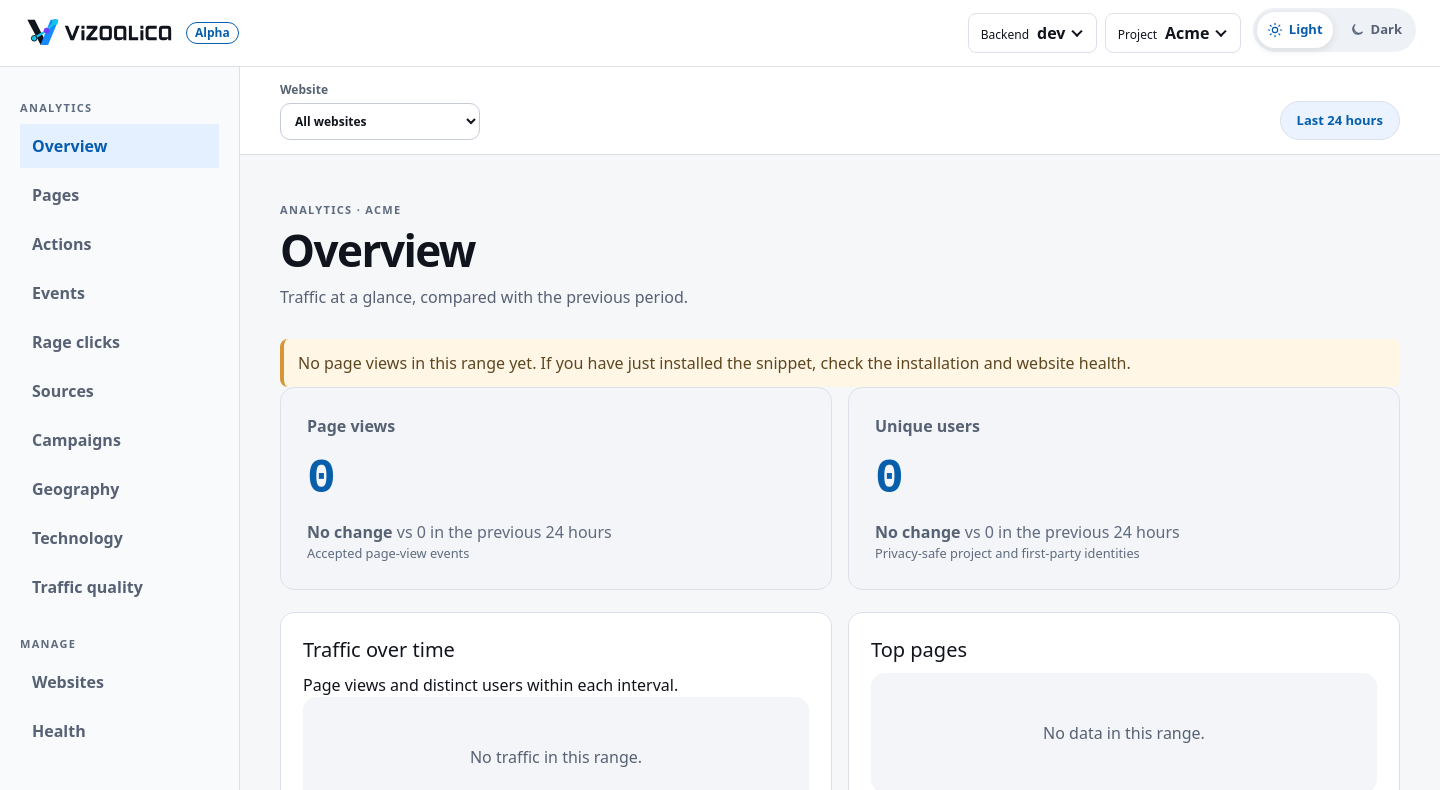
Test case: App with environments › says so, and picks the first project, when the project does not exist in the other environment
This screenshot has width=1440, height=790.
Step 1. Click the button "Project Acme" → coordinates (1173, 33), box [1105, 13, 1241, 53]
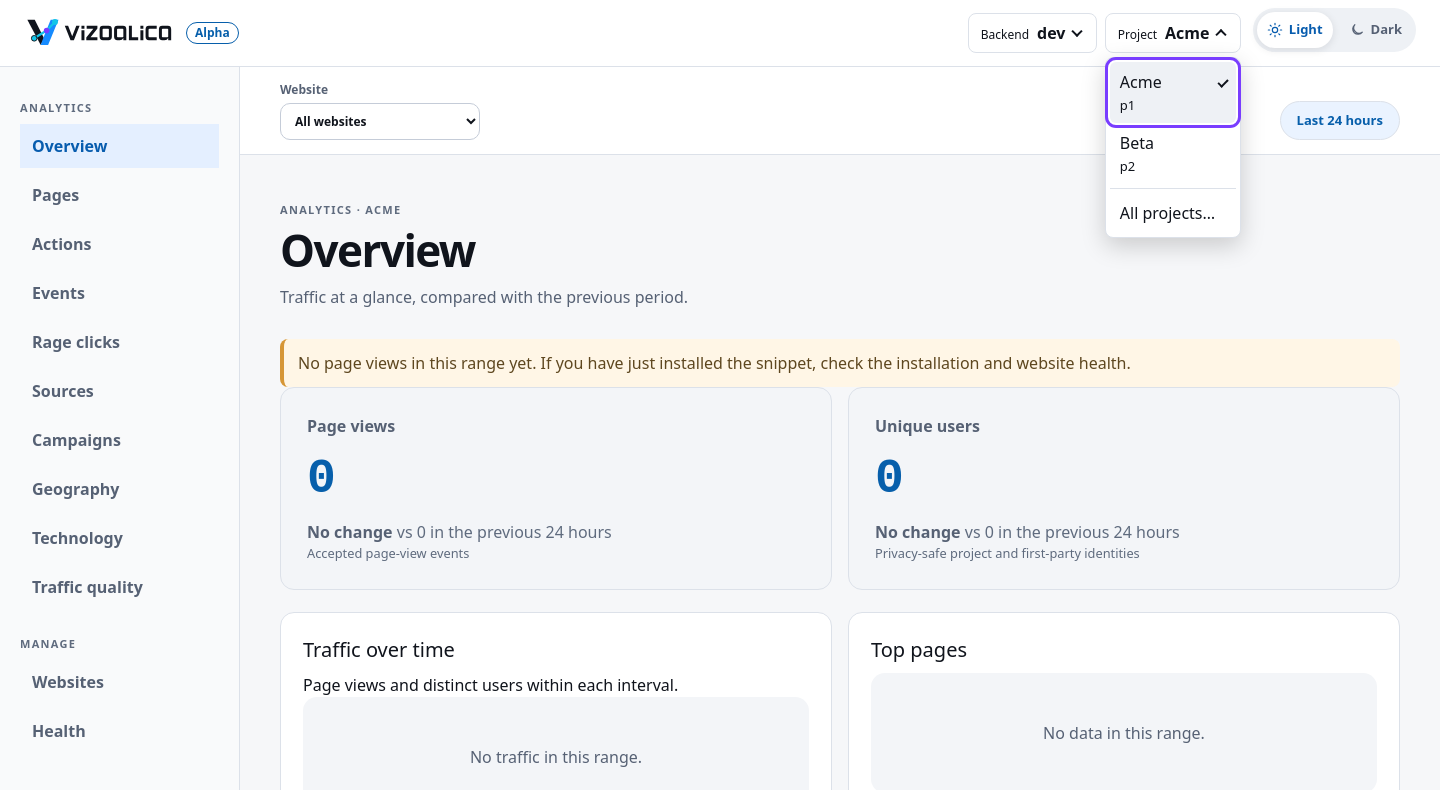
Step 2. Click the menu item "Beta p2" → coordinates (1173, 154), box [1110, 123, 1236, 184]
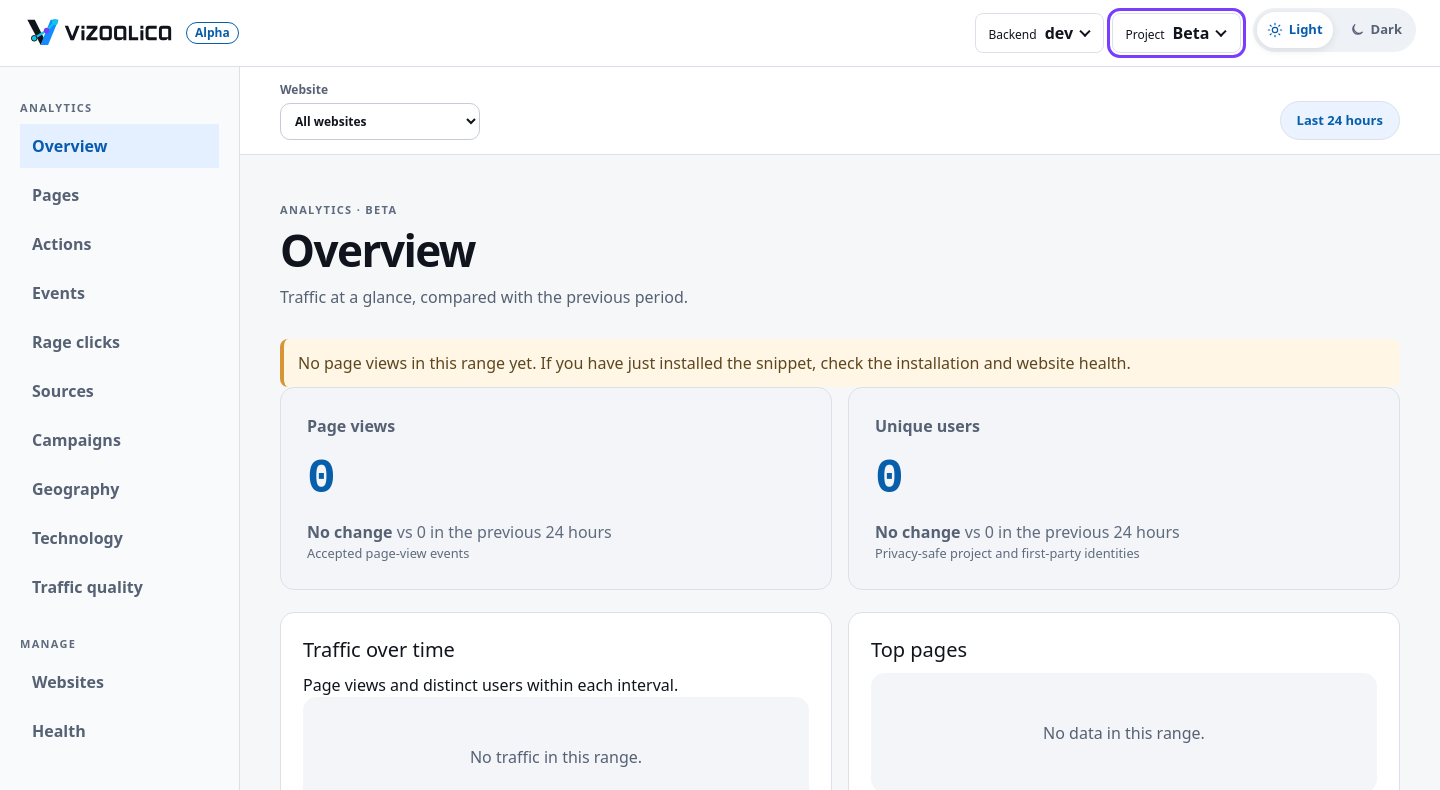
Step 3. Click the button "Backend dev" → coordinates (1040, 33), box [975, 13, 1104, 53]
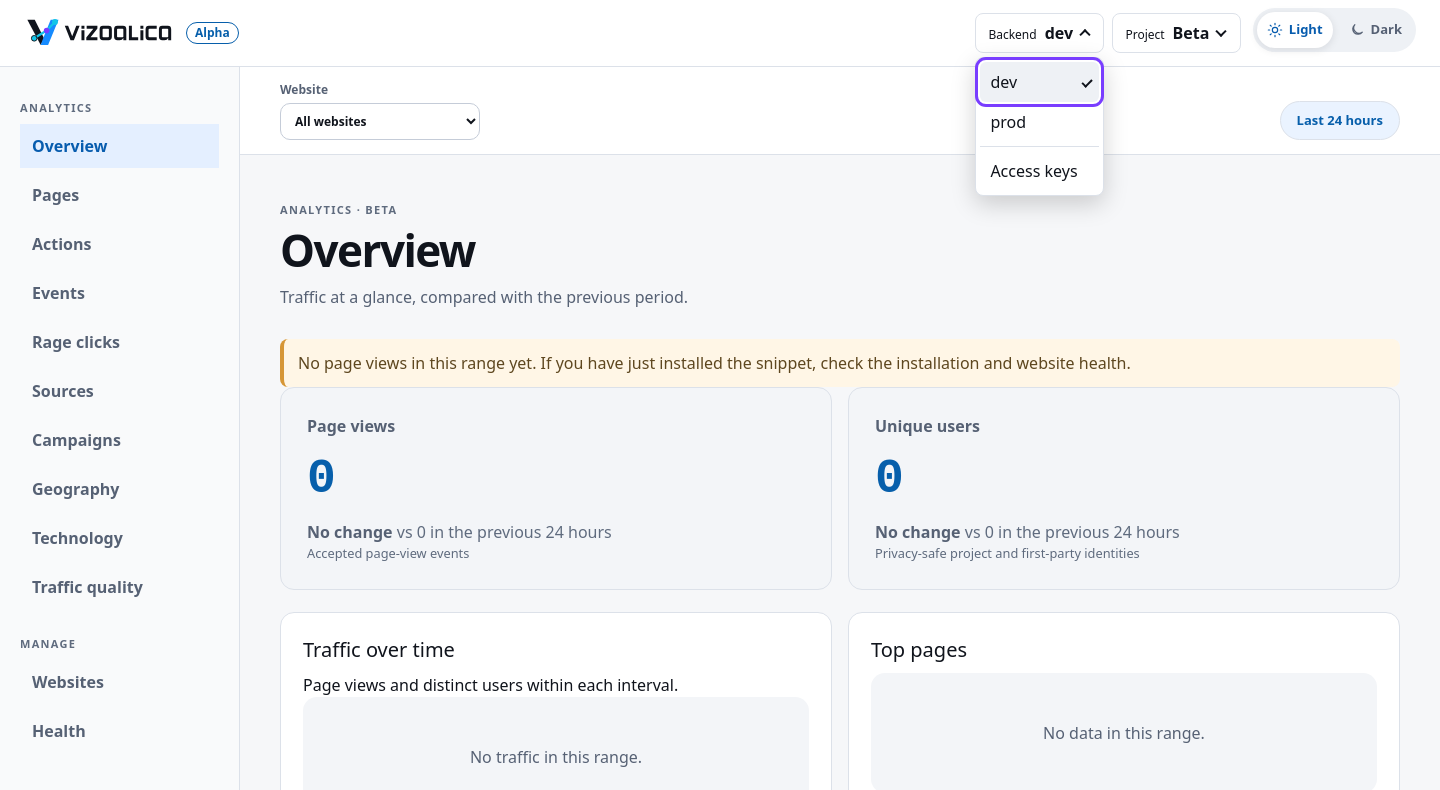
Step 4. Click the menu item "prod" → coordinates (1040, 122), box [980, 102, 1099, 142]
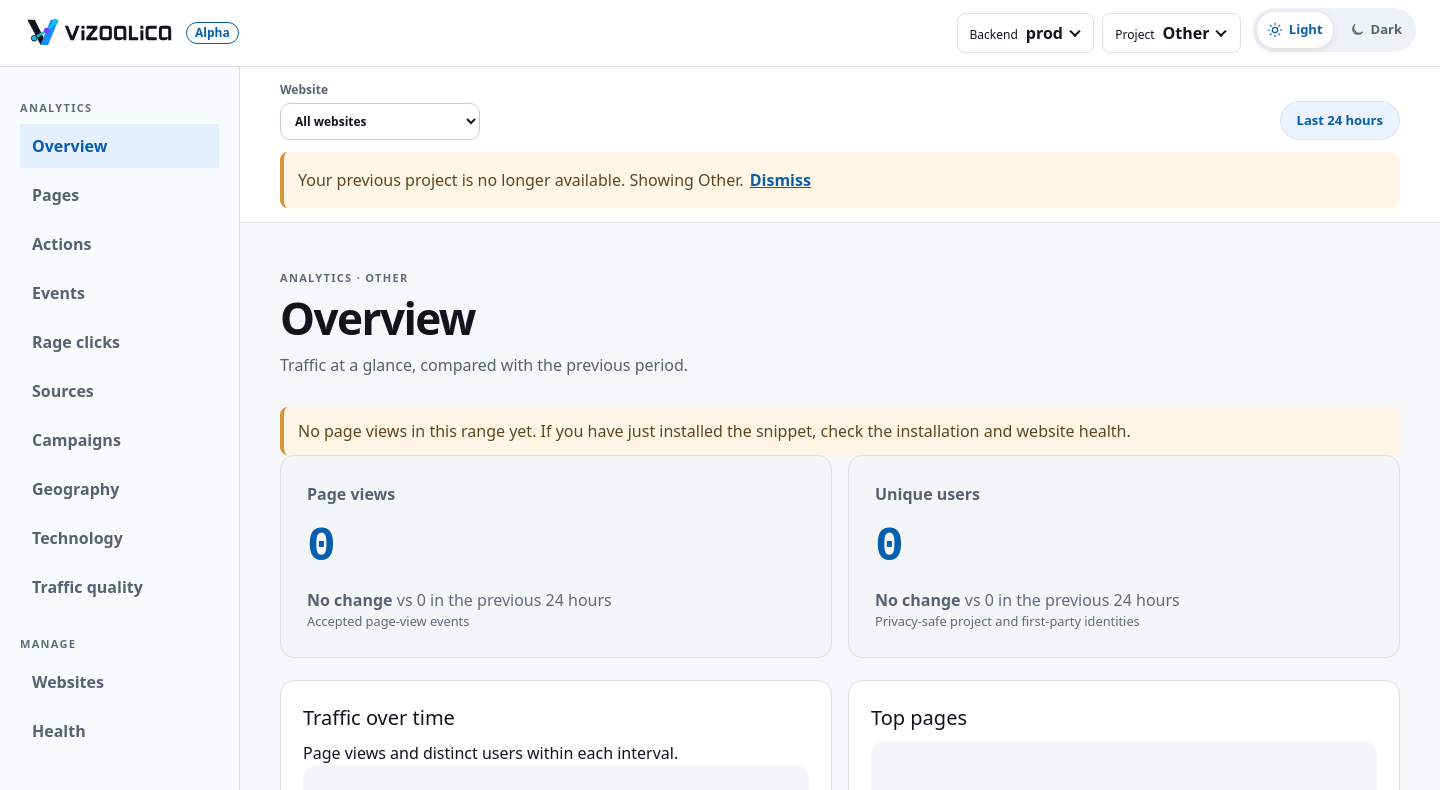
expect the text "Your previous project is no longer available. Showing Other. Dismiss" is shown: met, box [280, 152, 1400, 208]
